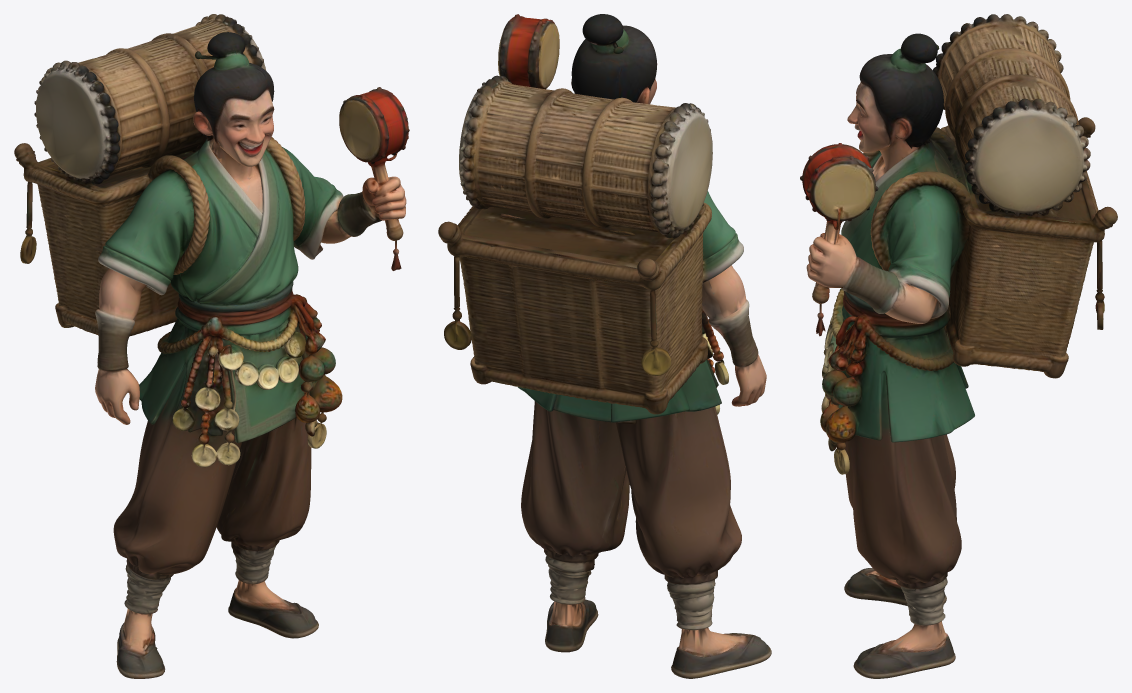
Rendered from np_qiao.glb.
The picture shows the model from 3 angles, left to right: view 1: azimuth 30°, elevation 25°; view 2: azimuth 150°, elevation 25°; view 3: azimuth 270°, elevation 25°; orthographic projection. The views are drawn at different scales.
Parts seen in each view (by area): view 1: node_0; view 2: node_0; view 3: node_0.
Part boxes in pixels (x1,y1,x2,y2): node_0: (14, 14, 409, 678); node_0: (438, 14, 771, 678); node_0: (800, 14, 1117, 678).
Size of the model in its own units: 0.5078 by 1.06 by 0.502.
1 material, 1 textured.
